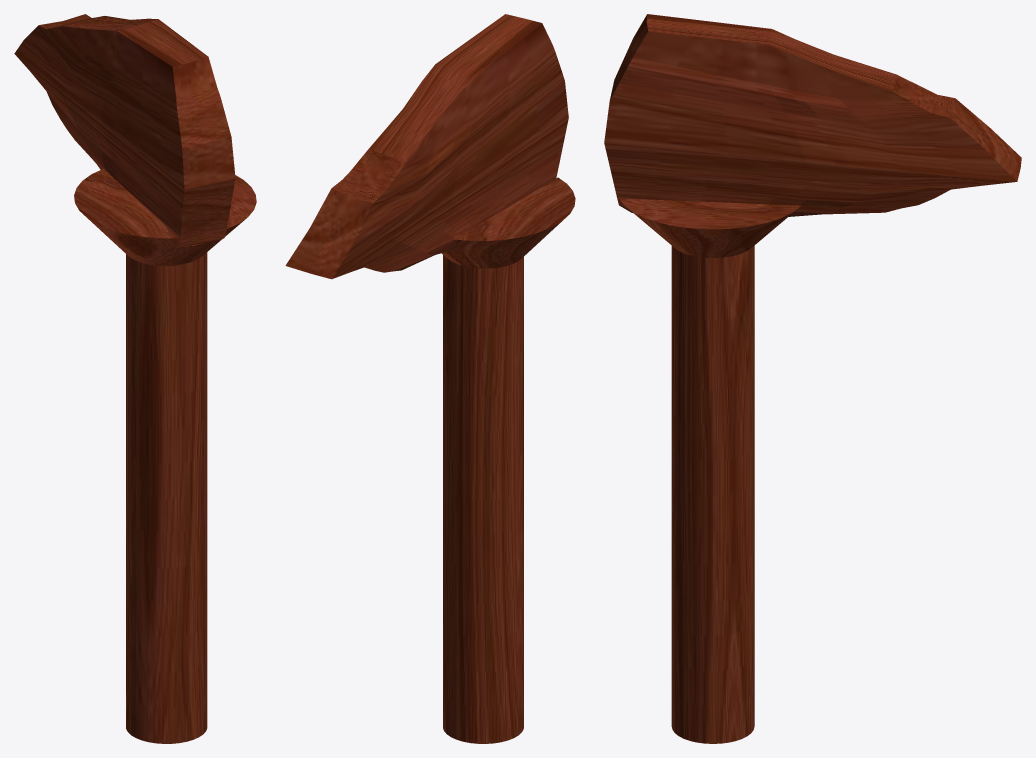
The model's file is redwood sign1.fbx.
The picture shows the model from 3 angles, left to right: view 1: azimuth 30°, elevation 25°; view 2: azimuth 150°, elevation 25°; view 3: azimuth 270°, elevation 25°; orthographic projection.
Parts seen in each view (by area): view 1: Cylinder, Cube.002, Cube, Cylinder.001; view 2: Cylinder, Cube.002, Cube, Cylinder.001; view 3: Cube.002, Cylinder, Cube, Cylinder.001.
Part boxes in pixels (x1,y1,x2,y2): Cylinder: [126, 252, 207, 743]; Cube.002: [14, 14, 235, 189]; Cube: [16, 55, 235, 247]; Cylinder.001: [74, 168, 256, 265]; Cylinder: [443, 255, 523, 743]; Cube.002: [285, 14, 568, 279]; Cube: [333, 117, 568, 278]; Cylinder.001: [442, 177, 575, 268]; Cube.002: [604, 14, 1021, 181]; Cylinder: [671, 245, 754, 743]; Cube: [604, 143, 1015, 216]; Cylinder.001: [619, 198, 801, 257].
Size of the model in its own units: 33.55 by 142 by 76.59.
